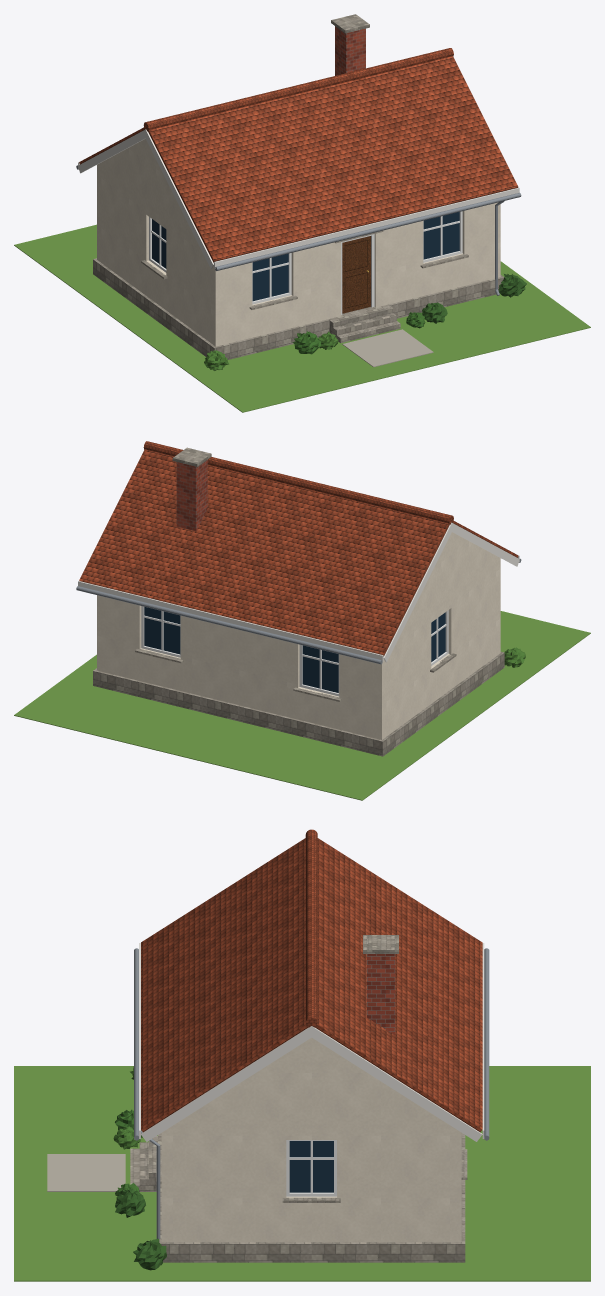
The model's file is ish04.glb.
The picture shows the model from 3 angles, top to bottom: view 1: azimuth 30°, elevation 25°; view 2: azimuth 150°, elevation 25°; view 3: azimuth 270°, elevation 25°; orthographic projection. The views are drawn at different scales.
Parts seen in each view (by area): view 1: Tom_-1, Yer_maysa, Devor_old, Devor_yon_-1, Poydevor, Tizma, Eshik, Yolak, Karniz, Tarnov, Deraza_oyna, Deraza_oyna_11 (+9 smaller); view 2: Tom_1, Yer_maysa, Devor_orqa, Devor_yon_-1, Poydevor, Tizma, Mori, Karniz_38, Tarnov_39, Deraza_oyna_17, Deraza_oyna_14, Fronton_taxta_40 (+5 smaller); view 3: Yer_maysa, Devor_yon_1, Tom_-1, Tom_1, Poydevor, Yolak, Tizma, Mori, Fronton_taxta_36, Deraza_oyna_y_23, Fronton_taxta_41, Tarnov_39 (+6 smaller).
Part boxes in pixels (bbox=[...]): Tom_-1: bbox=[148, 56, 518, 262]; Yer_maysa: bbox=[14, 224, 590, 412]; Devor_old: bbox=[216, 202, 500, 346]; Devor_yon_-1: bbox=[97, 139, 215, 346]; Poydevor: bbox=[93, 258, 504, 359]; Tizma: bbox=[143, 48, 453, 131]; Eshik: bbox=[342, 236, 370, 313]; Yolak: bbox=[342, 329, 433, 367]; Karniz: bbox=[214, 187, 519, 268]; Tarnov: bbox=[215, 192, 521, 270]; Deraza_oyna: bbox=[252, 253, 288, 301]; Deraza_oyna_11: bbox=[423, 212, 459, 259]; Tom_1: bbox=[79, 449, 449, 656]; Yer_maysa: bbox=[14, 611, 590, 800]; Devor_orqa: bbox=[97, 595, 381, 739]; Devor_yon_-1: bbox=[381, 532, 500, 739]; Poydevor: bbox=[93, 651, 504, 756]; Tizma: bbox=[143, 441, 453, 524]; Mori: bbox=[176, 460, 207, 530]; Karniz_38: bbox=[78, 581, 383, 662]; Tarnov_39: bbox=[76, 586, 382, 664]; Deraza_oyna_17: bbox=[144, 607, 180, 654]; Deraza_oyna_14: bbox=[302, 645, 338, 692]; Fronton_taxta_40: bbox=[383, 522, 452, 662]; Yer_maysa: bbox=[14, 1066, 590, 1281]; Devor_yon_1: bbox=[162, 1037, 461, 1242]; Tom_-1: bbox=[141, 838, 307, 1132]; Tom_1: bbox=[315, 838, 482, 1132]; Poydevor: bbox=[158, 1133, 465, 1262]; Yolak: bbox=[47, 1154, 125, 1191]; Tizma: bbox=[305, 829, 317, 1027]; Mori: bbox=[366, 954, 395, 1034]; Fronton_taxta_36: bbox=[141, 1026, 317, 1141]; Deraza_oyna_y_23: bbox=[289, 1141, 333, 1192]; Fronton_taxta_41: bbox=[306, 1026, 482, 1141]; Tarnov_39: bbox=[484, 948, 489, 1140].
Bounding box in the file's own units: 11 × 6.79 × 12.5.
19 materials, 5 textured.
